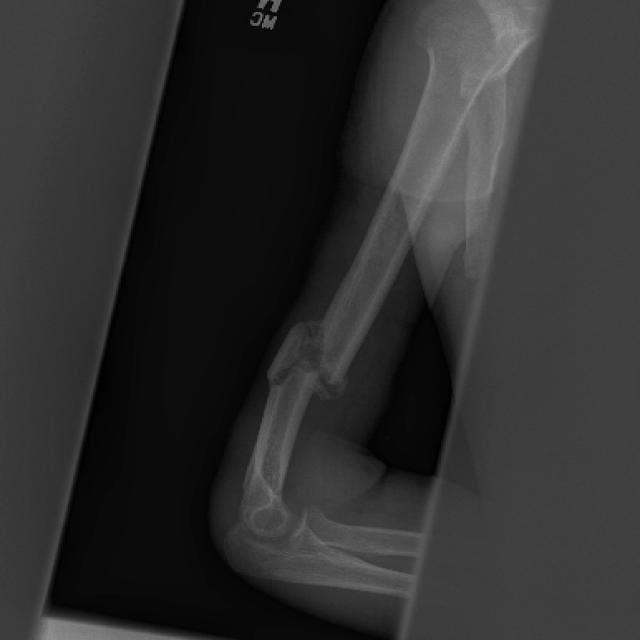humerus fracture: (235, 278, 410, 481)
